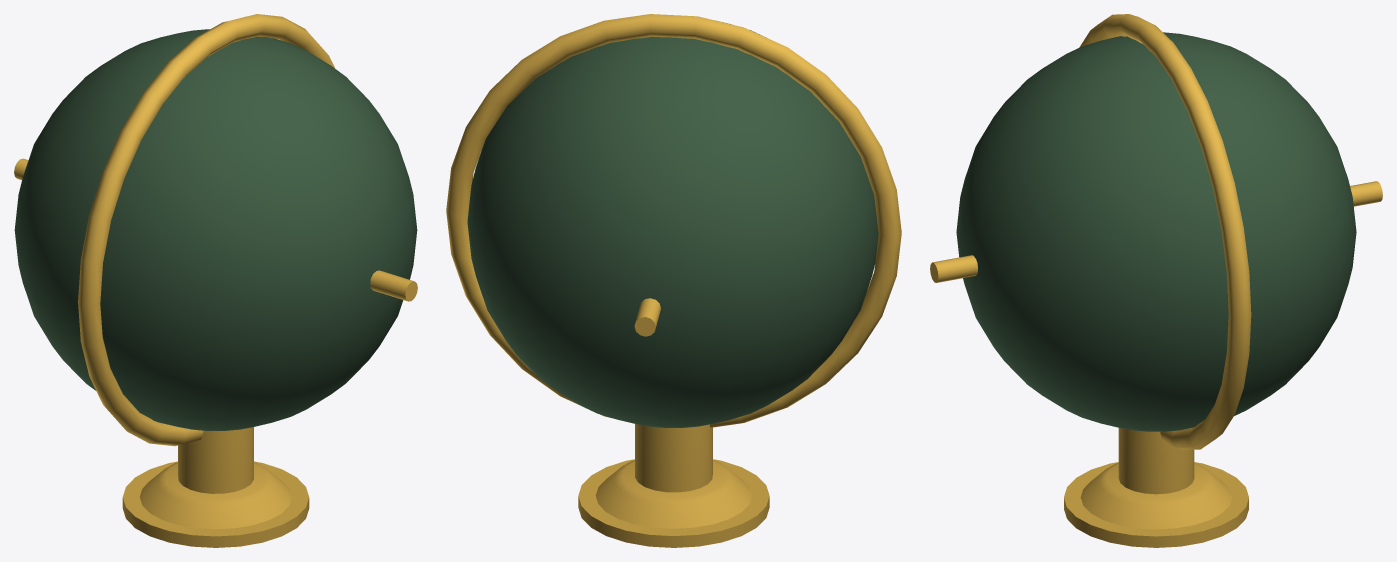
Rendered from zone_library_globe.glb.
3 renders of one model, left to right at view 1: azimuth 30°, elevation 25°; view 2: azimuth 150°, elevation 25°; view 3: azimuth 270°, elevation 25°, orthographic. The views are drawn at different scales.
Parts seen in each view (by area): view 1: zone_library_globe; view 2: zone_library_globe; view 3: zone_library_globe.
Boxes of the visible parts, <box> form: zone_library_globe: <box>14,14,417,547</box>; zone_library_globe: <box>446,14,901,547</box>; zone_library_globe: <box>930,14,1382,547</box>.
Bounding box in the file's own units: 1.94 × 2.5 × 2.15.
